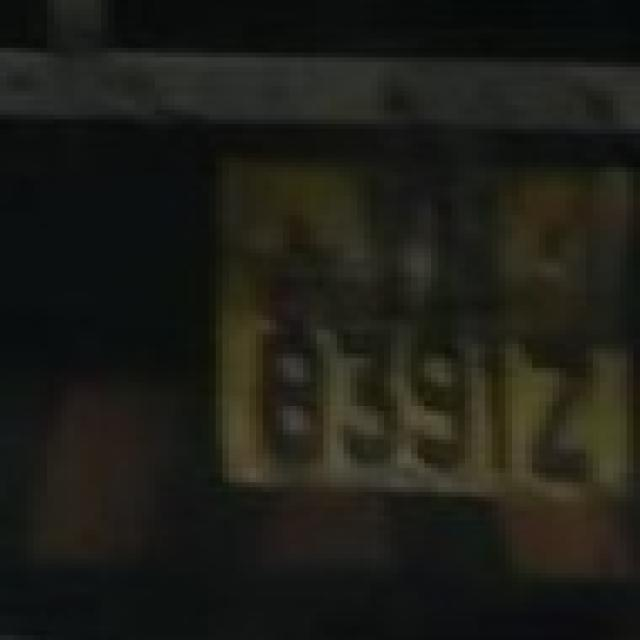1: (480, 326, 515, 474)
3: (338, 322, 402, 471)
8: (257, 325, 331, 467)
9: (408, 330, 472, 475)
N: (433, 174, 508, 320)
Y: (349, 176, 426, 316)
Z: (518, 335, 604, 480)
